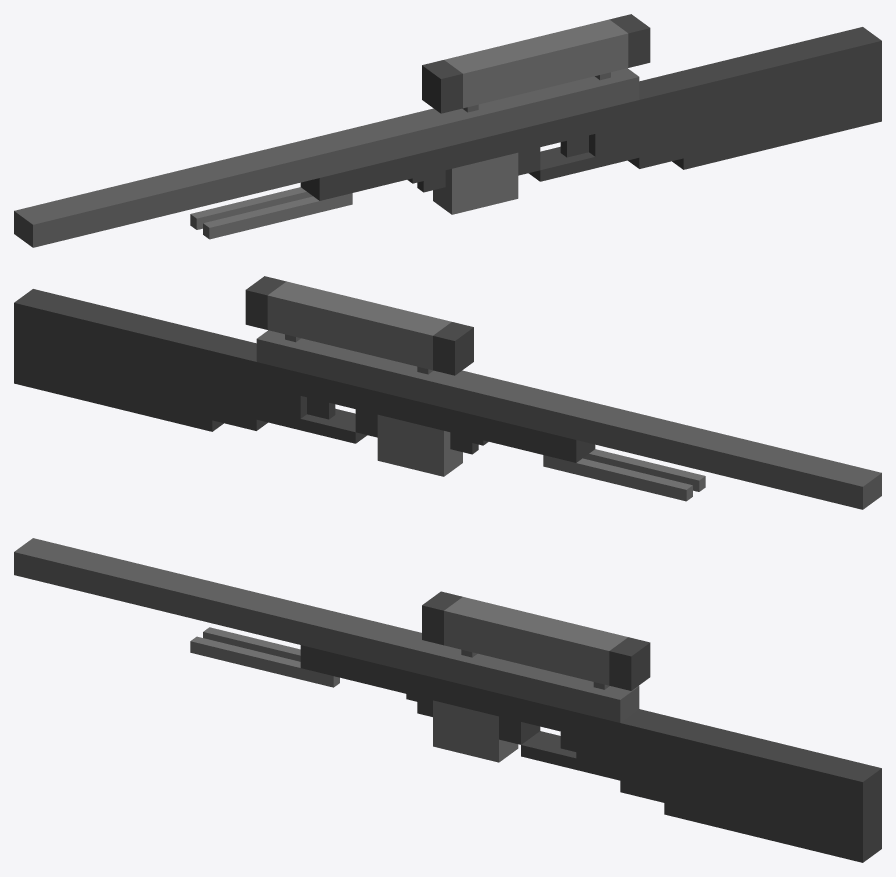
Rendered from Gun-2.obj.
The picture shows the model from 3 angles, top to bottom: view 1: azimuth 30°, elevation 25°; view 2: azimuth 150°, elevation 25°; view 3: azimuth 330°, elevation 25°; orthographic projection.
Visible parts, largest first — view 1: Gun-2; view 2: Gun-2; view 3: Gun-2.
Part boxes in pixels (bbox=[...]): Gun-2: bbox=[14, 14, 881, 247]; Gun-2: bbox=[14, 276, 881, 509]; Gun-2: bbox=[14, 538, 881, 862].
Size of the model in its own units: 77 by 13 by 3.
1 material, 1 textured.
